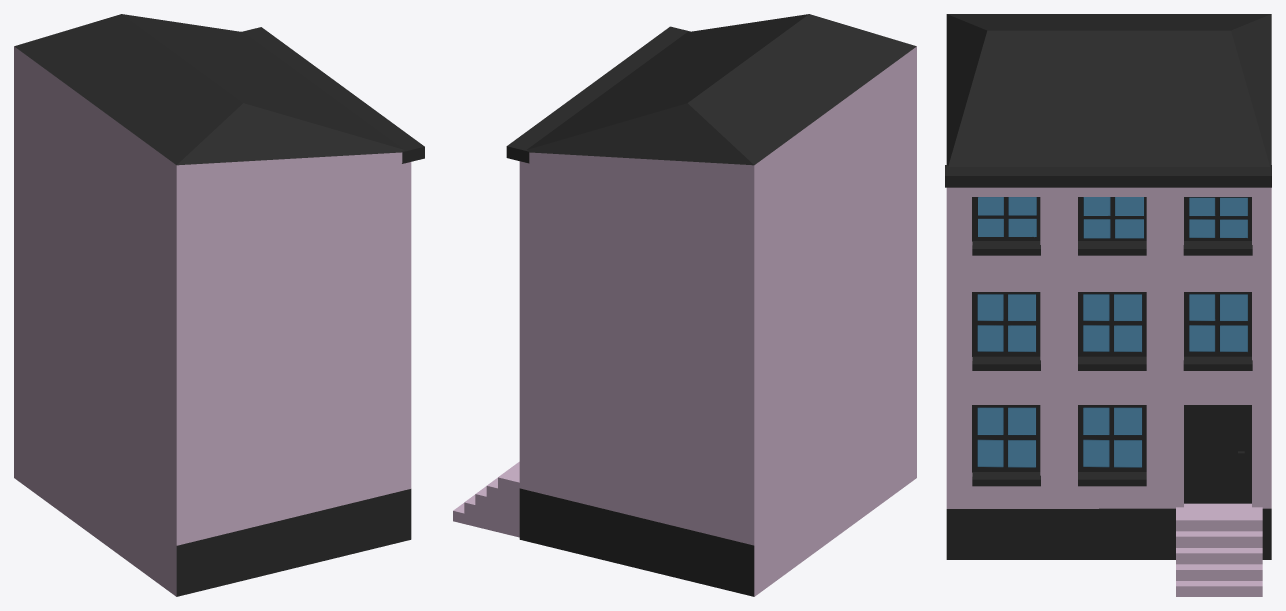
Rendered from NormalLavender.obj.
3 renders of one model, left to right at view 1: azimuth 30°, elevation 25°; view 2: azimuth 150°, elevation 25°; view 3: azimuth 270°, elevation 25°, orthographic.
Visible parts, largest first — view 1: ZwyklyZwyklyLawenda; view 2: ZwyklyZwyklyLawenda; view 3: ZwyklyZwyklyLawenda.
Part boxes in pixels (x1,y1,x2,y2): ZwyklyZwyklyLawenda: [14, 14, 424, 596]; ZwyklyZwyklyLawenda: [453, 14, 916, 596]; ZwyklyZwyklyLawenda: [945, 14, 1271, 596].
Bounding box in the file's own units: 6.52 × 9.37 × 6.04.
